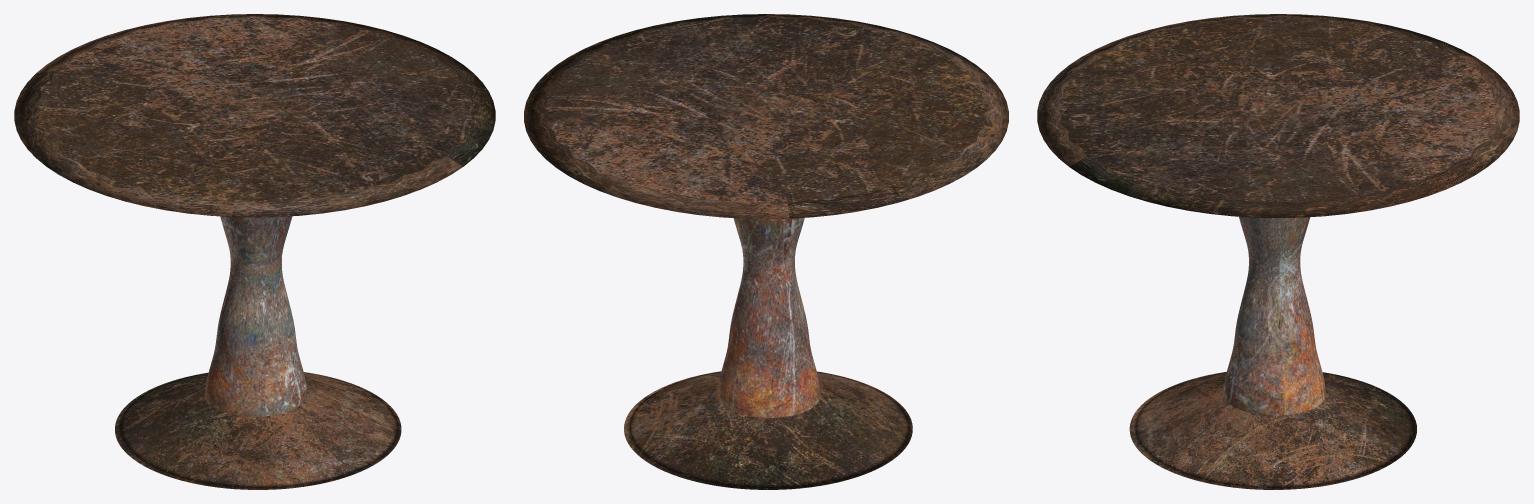
File: steampunktableBetterTexturedVersion.fbx
3 renders of one model, left to right at view 1: azimuth 30°, elevation 25°; view 2: azimuth 150°, elevation 25°; view 3: azimuth 270°, elevation 25°, orthographic.
Parts seen in each view (by area): view 1: pCylinder3; view 2: pCylinder3; view 3: pCylinder3.
Boxes of the visible parts, box(x1,y1,x2,y2) form: pCylinder3: box(14, 14, 495, 489); pCylinder3: box(524, 14, 1008, 489); pCylinder3: box(1037, 14, 1519, 489).
Size of the model in its own units: 6.14 by 4.56 by 6.13.
2 materials, 2 textured.
